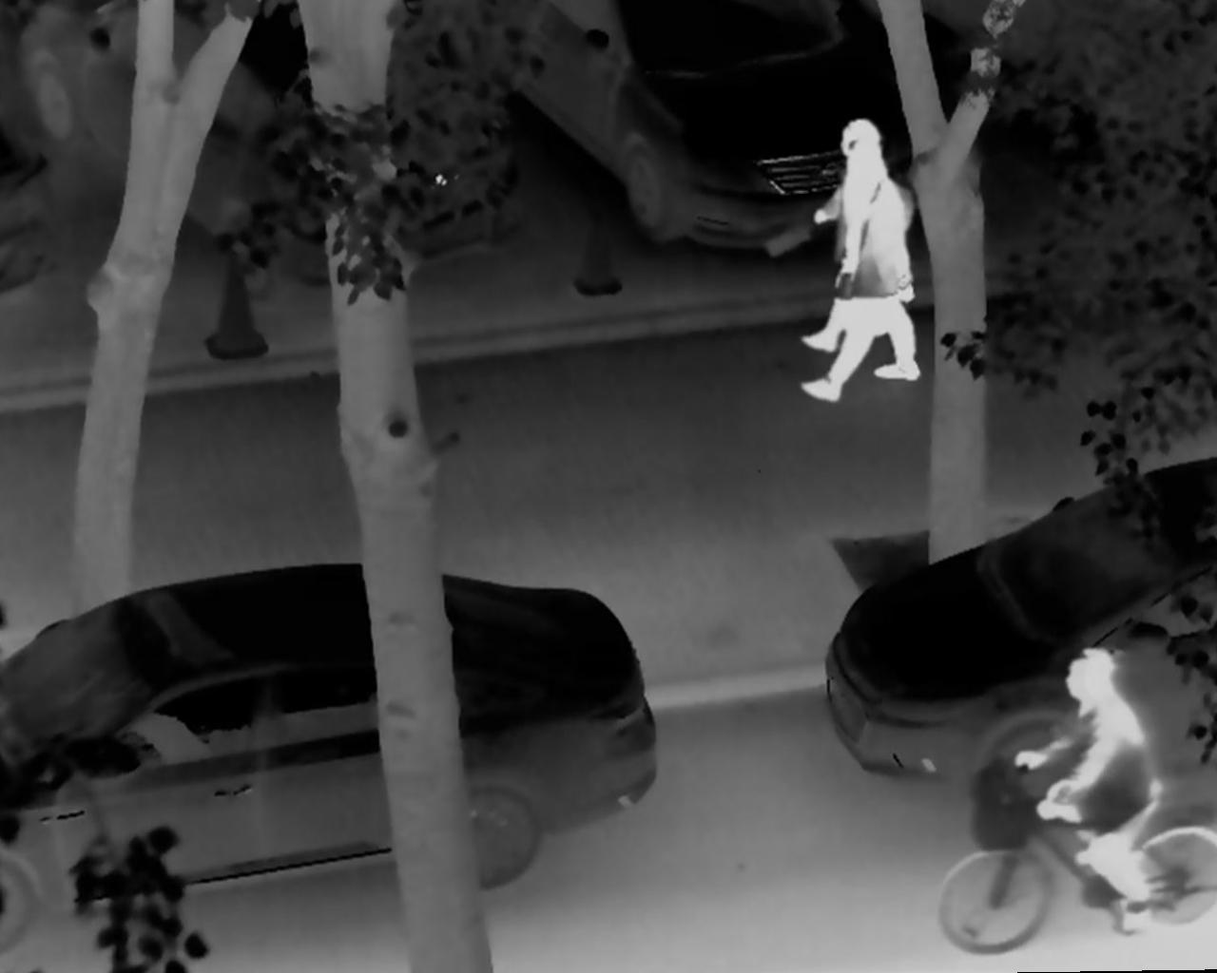person: (1014, 643, 1180, 944), (802, 155, 925, 406), (795, 118, 911, 353)
